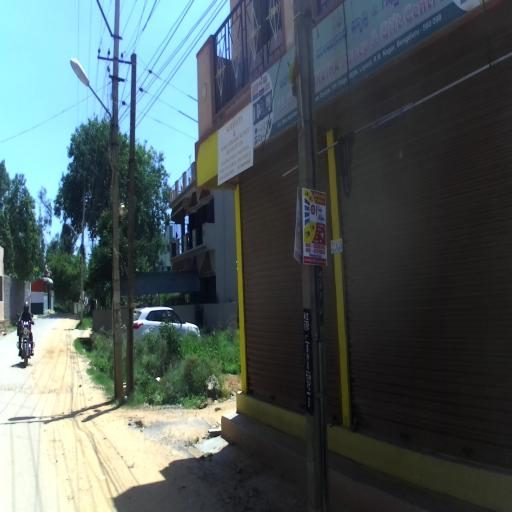street_light_0: (70, 58, 119, 152), (68, 222, 84, 250)
